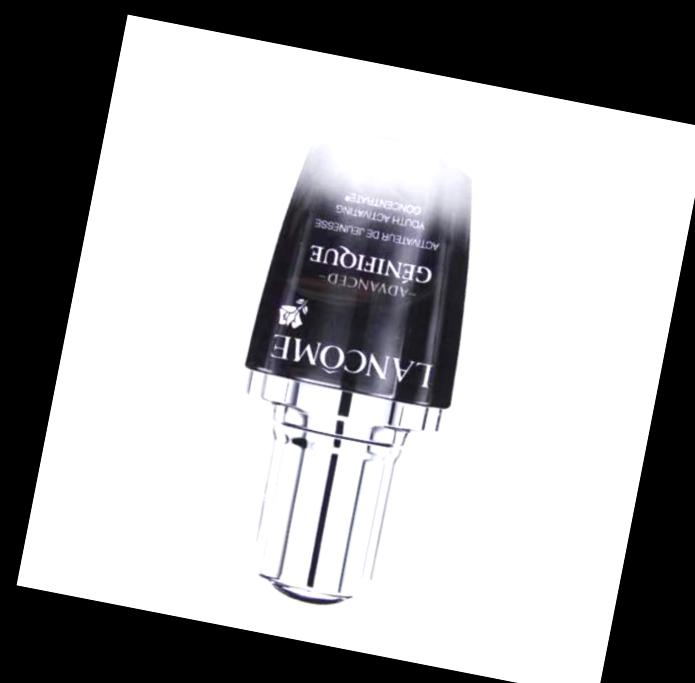cosmetic: (199, 82, 504, 624)
